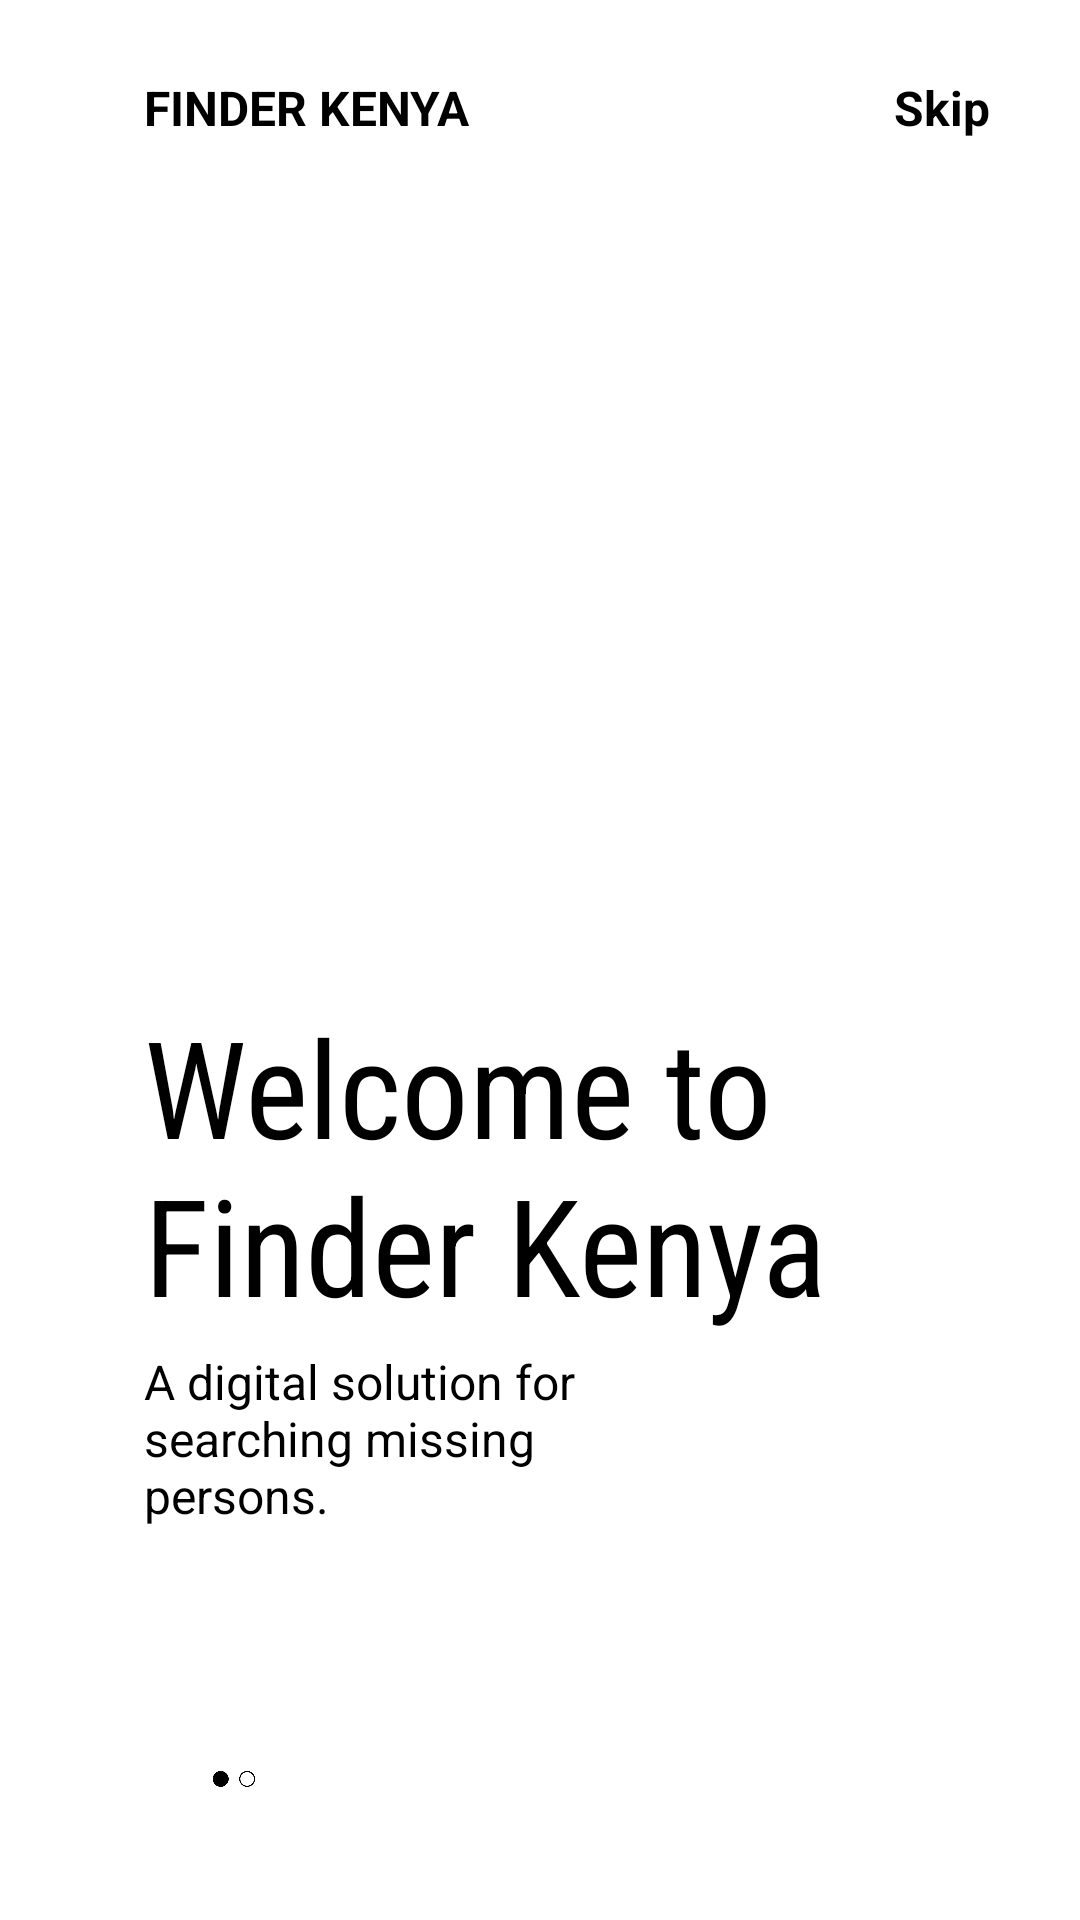

Screen size 1080px×1920px. Icon name, then its box in pixels as (x1, y1, x2, y2):
tab: (213, 1771, 255, 1787)
